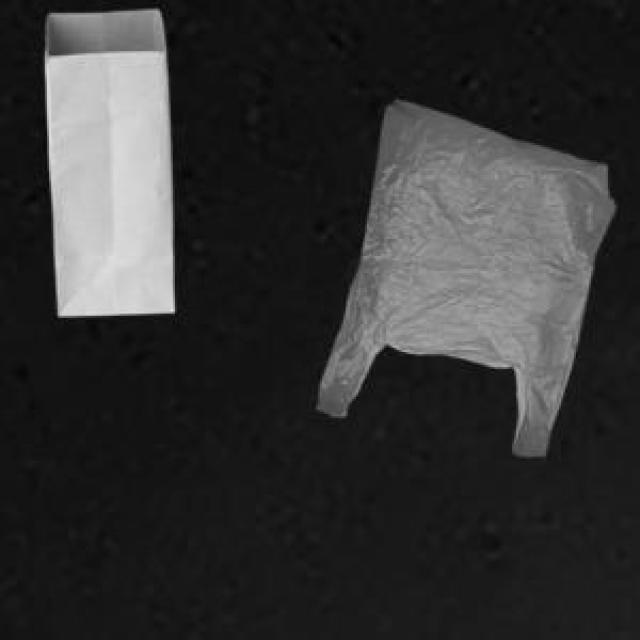paper: (41, 6, 171, 312)
